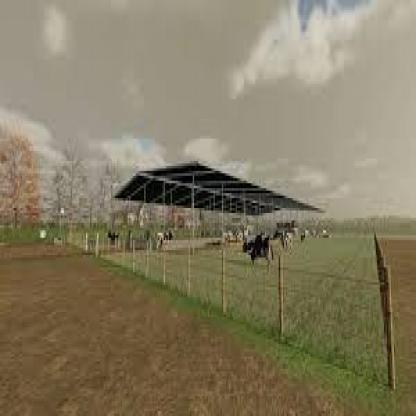cow: (241, 233, 275, 272), (279, 228, 296, 252), (106, 228, 120, 248), (300, 229, 309, 244)
